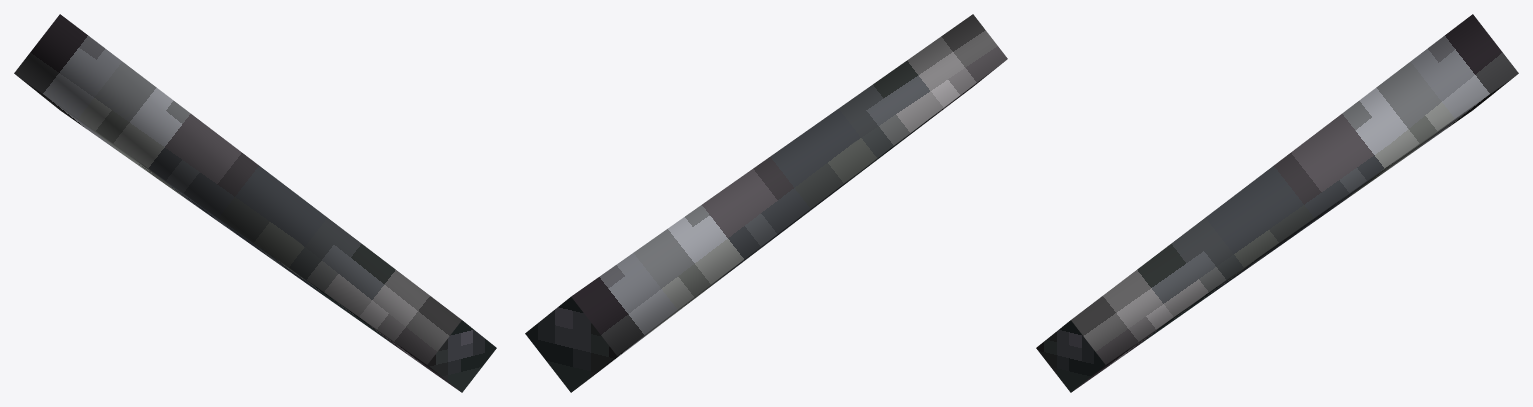
File: wp_scope_deathhammer_l2.fbx
The picture shows the model from 3 angles, left to right: view 1: azimuth 30°, elevation 25°; view 2: azimuth 150°, elevation 25°; view 3: azimuth 330°, elevation 25°; orthographic projection.
Visible parts, largest first — view 1: mesh_node; view 2: mesh_node; view 3: mesh_node.
Boxes of the visible parts, box(x1,y1,x2,y2) form: mesh_node: box(14, 14, 496, 392); mesh_node: box(525, 14, 1007, 392); mesh_node: box(1036, 14, 1518, 392).
Bounding box in the file's own units: 0.0286 × 0.0286 × 0.2166.
